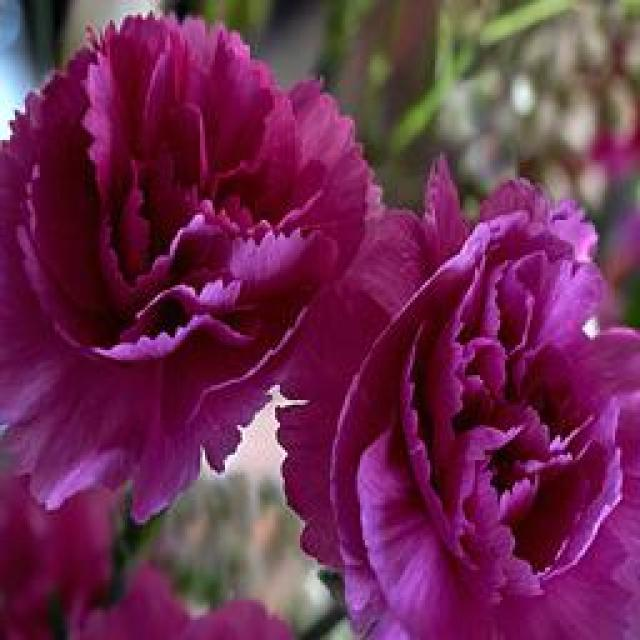carnation: (287, 167, 640, 640)
